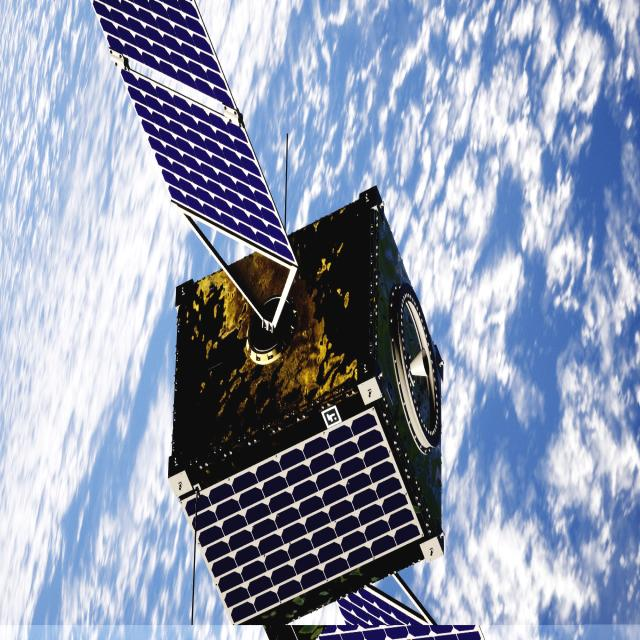satellite: (90, 0, 483, 640)
